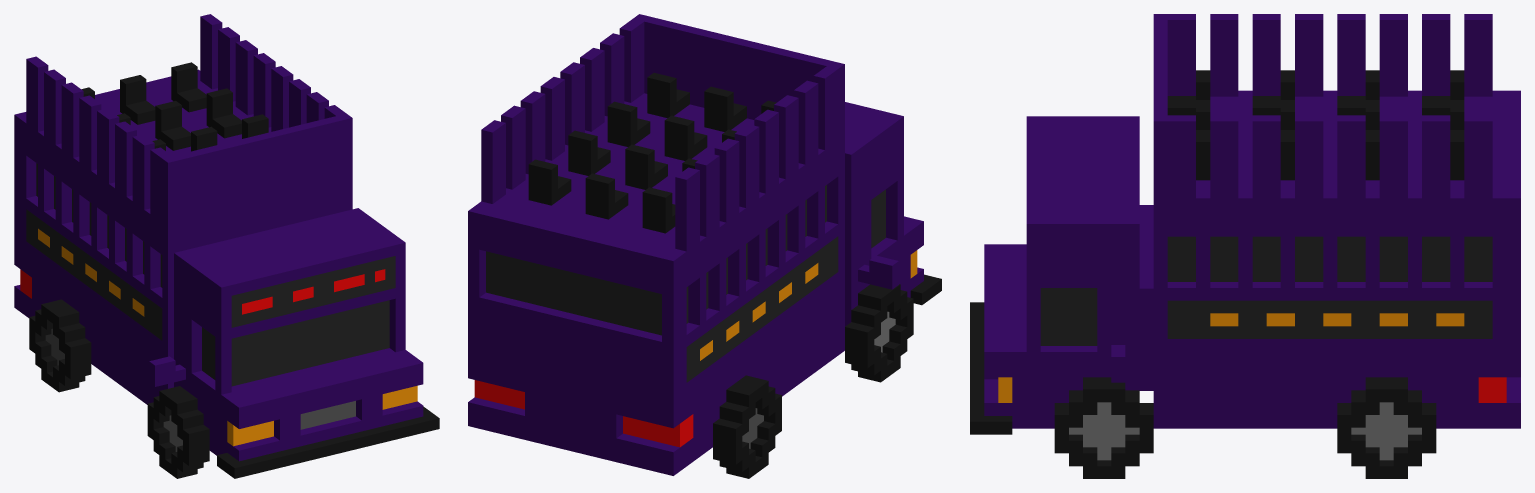
File: purpletruckassets.vox.obj
3 renders of one model, left to right at view 1: azimuth 30°, elevation 25°; view 2: azimuth 150°, elevation 25°; view 3: azimuth 270°, elevation 25°, orthographic. The views are drawn at different scales.
Bounding box in the file's own units: 2.4 × 2.7 × 3.9.
Materials: 1 (1 with a texture image).
